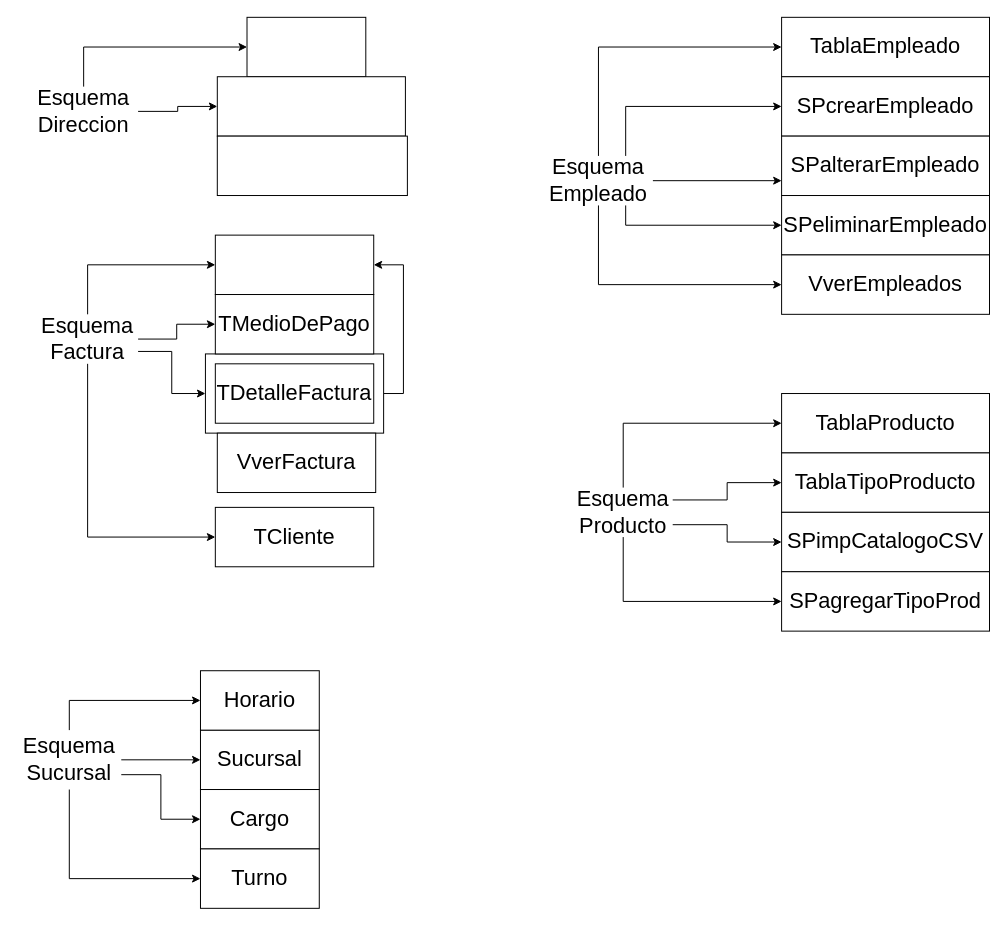
Some shapes in this 1007 by 926 pixel diagram are drawn without their labels. The centre of each missing label's shape, as x and y in pixels:
"TDireccion" belongs at point 306,46.
"TFactura" belongs at point 294,264.
"VverDirecEmplead" belongs at point 310,106.
"VverDirecSucursal" belongs at point 311,165.
